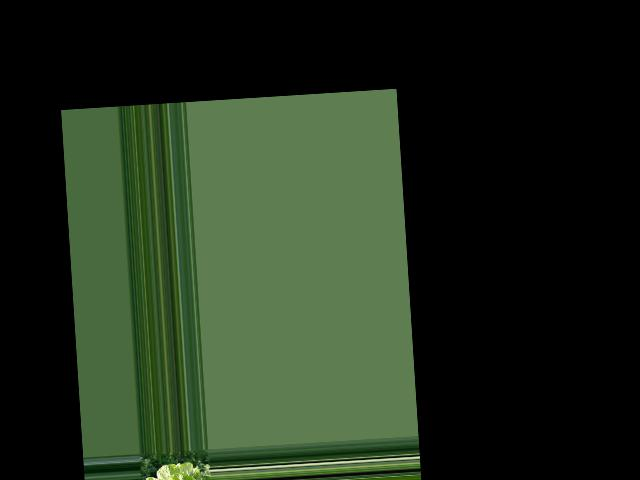lettuce: (147, 462, 211, 480)
